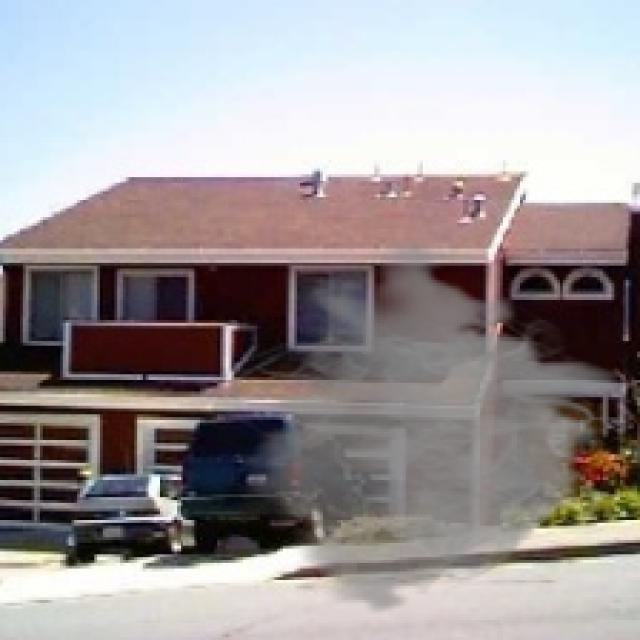Smoke: (212, 237, 634, 614)
